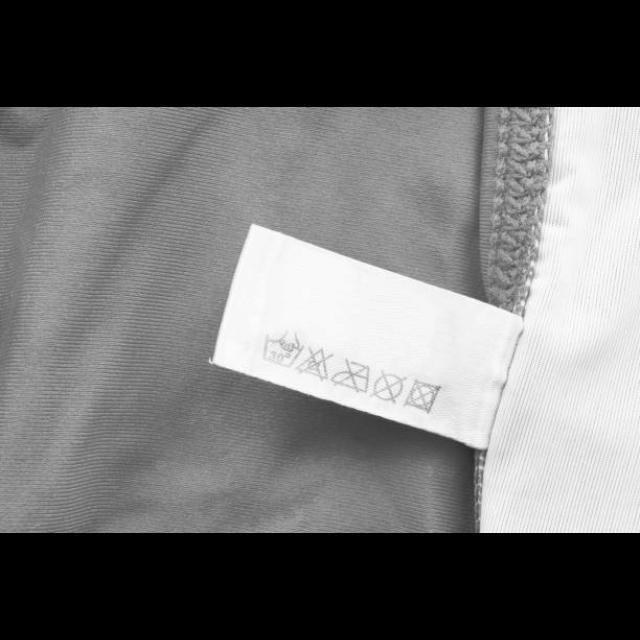30C: (260, 332, 306, 368)
DN_bleach: (294, 344, 336, 384)
DN_dry_clean: (367, 368, 409, 406)
DN_iron: (328, 356, 372, 396)
DN_tumble_dry: (401, 378, 443, 416)
